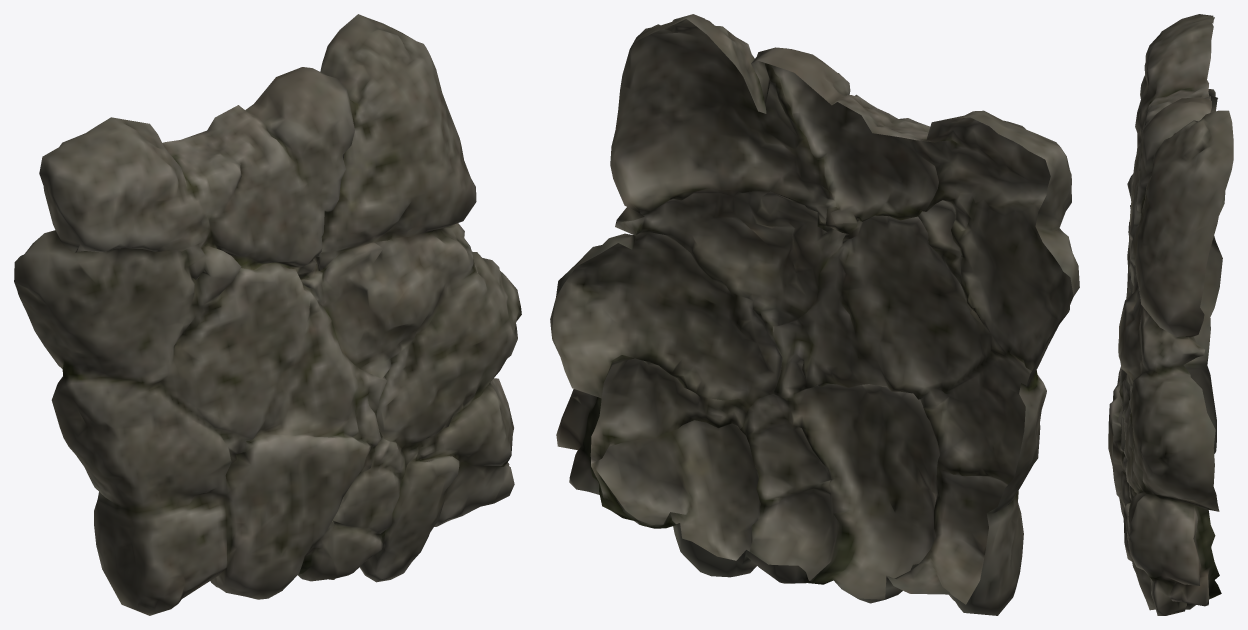
The model's file is Cliff_Side_02.fbx.
3 renders of one model, left to right at view 1: azimuth 30°, elevation 25°; view 2: azimuth 150°, elevation 25°; view 3: azimuth 270°, elevation 25°, orthographic. The views are drawn at different scales.
Visible parts, largest first — view 1: Cliff_Side_02; view 2: Cliff_Side_02; view 3: Cliff_Side_02.
Boxes of the visible parts, left/top/right/bottom form: Cliff_Side_02: left=14, top=14, right=521, bottom=615; Cliff_Side_02: left=550, top=14, right=1079, bottom=615; Cliff_Side_02: left=1108, top=14, right=1233, bottom=615.
Size of what is drawn, in the model's own units: 337 by 351 by 79.43.
